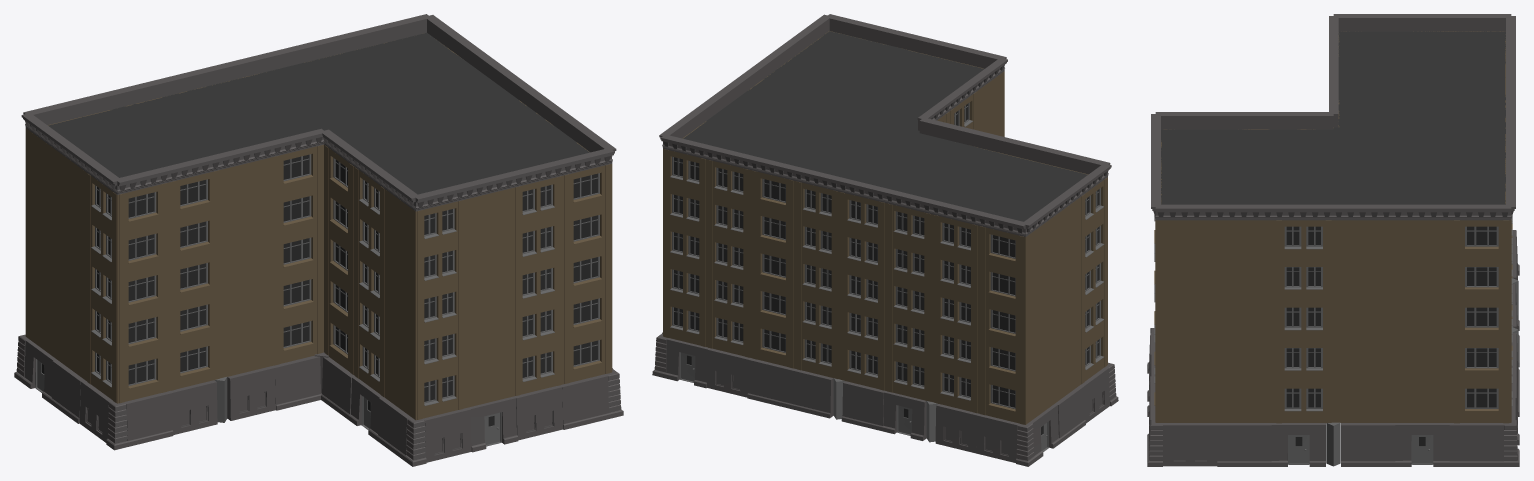
Rendered from house3unity.fbx.
The picture shows the model from 3 angles, left to right: view 1: azimuth 30°, elevation 25°; view 2: azimuth 150°, elevation 25°; view 3: azimuth 270°, elevation 25°; orthographic projection. The views are drawn at different scales.
Parts seen in each view (by area): view 1: building_base; view 2: building_base; view 3: building_base.
Part boxes in pixels (x1,y1,x2,y2): building_base: (14, 14, 623, 466); building_base: (652, 14, 1118, 466); building_base: (1147, 14, 1519, 466).
Size of the model in its own units: 31.44 by 19 by 24.98.
